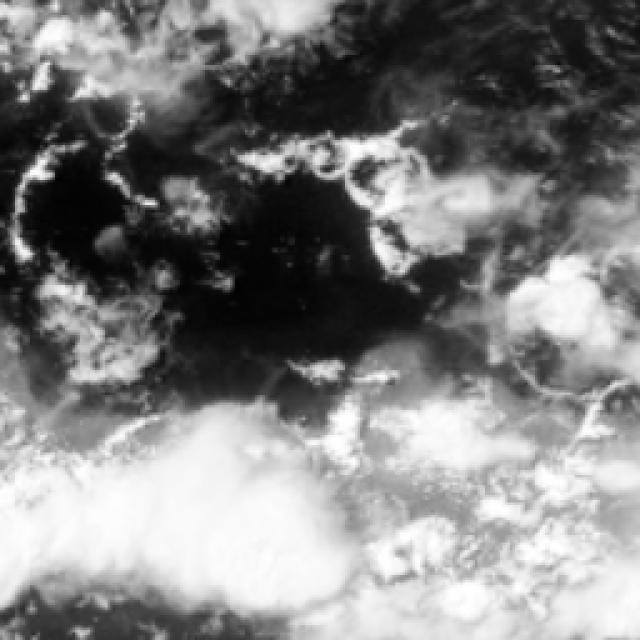CB: (114, 475, 323, 590)
